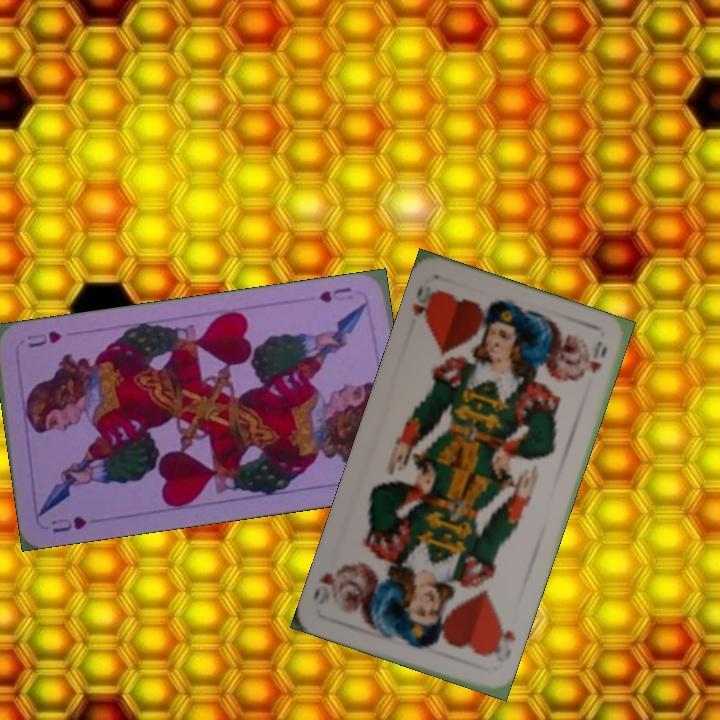HO: (484, 613, 519, 661), (408, 282, 441, 326)
HU: (48, 512, 90, 536), (314, 282, 354, 305)
